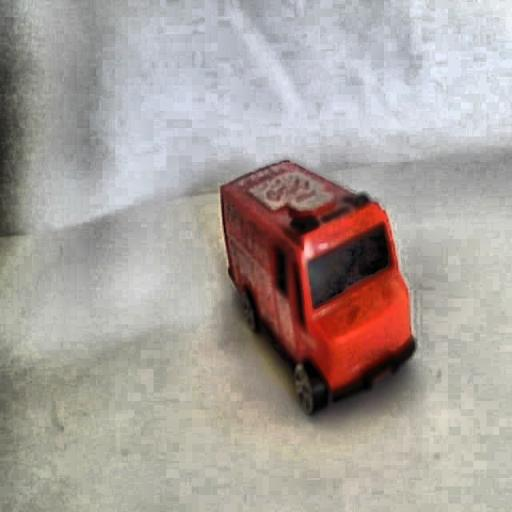fire_truck: (215, 155, 419, 417), (230, 214, 278, 319)
